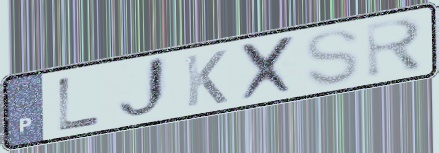J: (115, 52, 172, 125)
K: (183, 48, 230, 110)
L: (56, 74, 104, 134)
R: (363, 14, 427, 82)
S: (303, 27, 363, 88)
X: (238, 32, 299, 104)
